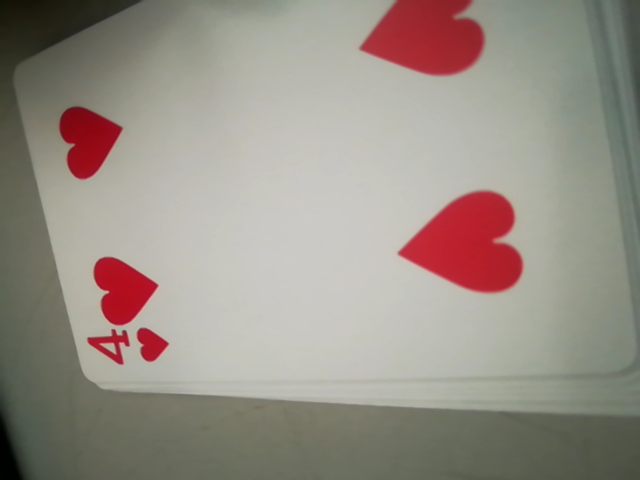hx 4: (80, 323, 169, 377)
